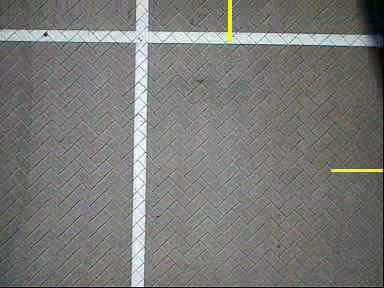groundmarker_2: (123, 188, 189, 231)
